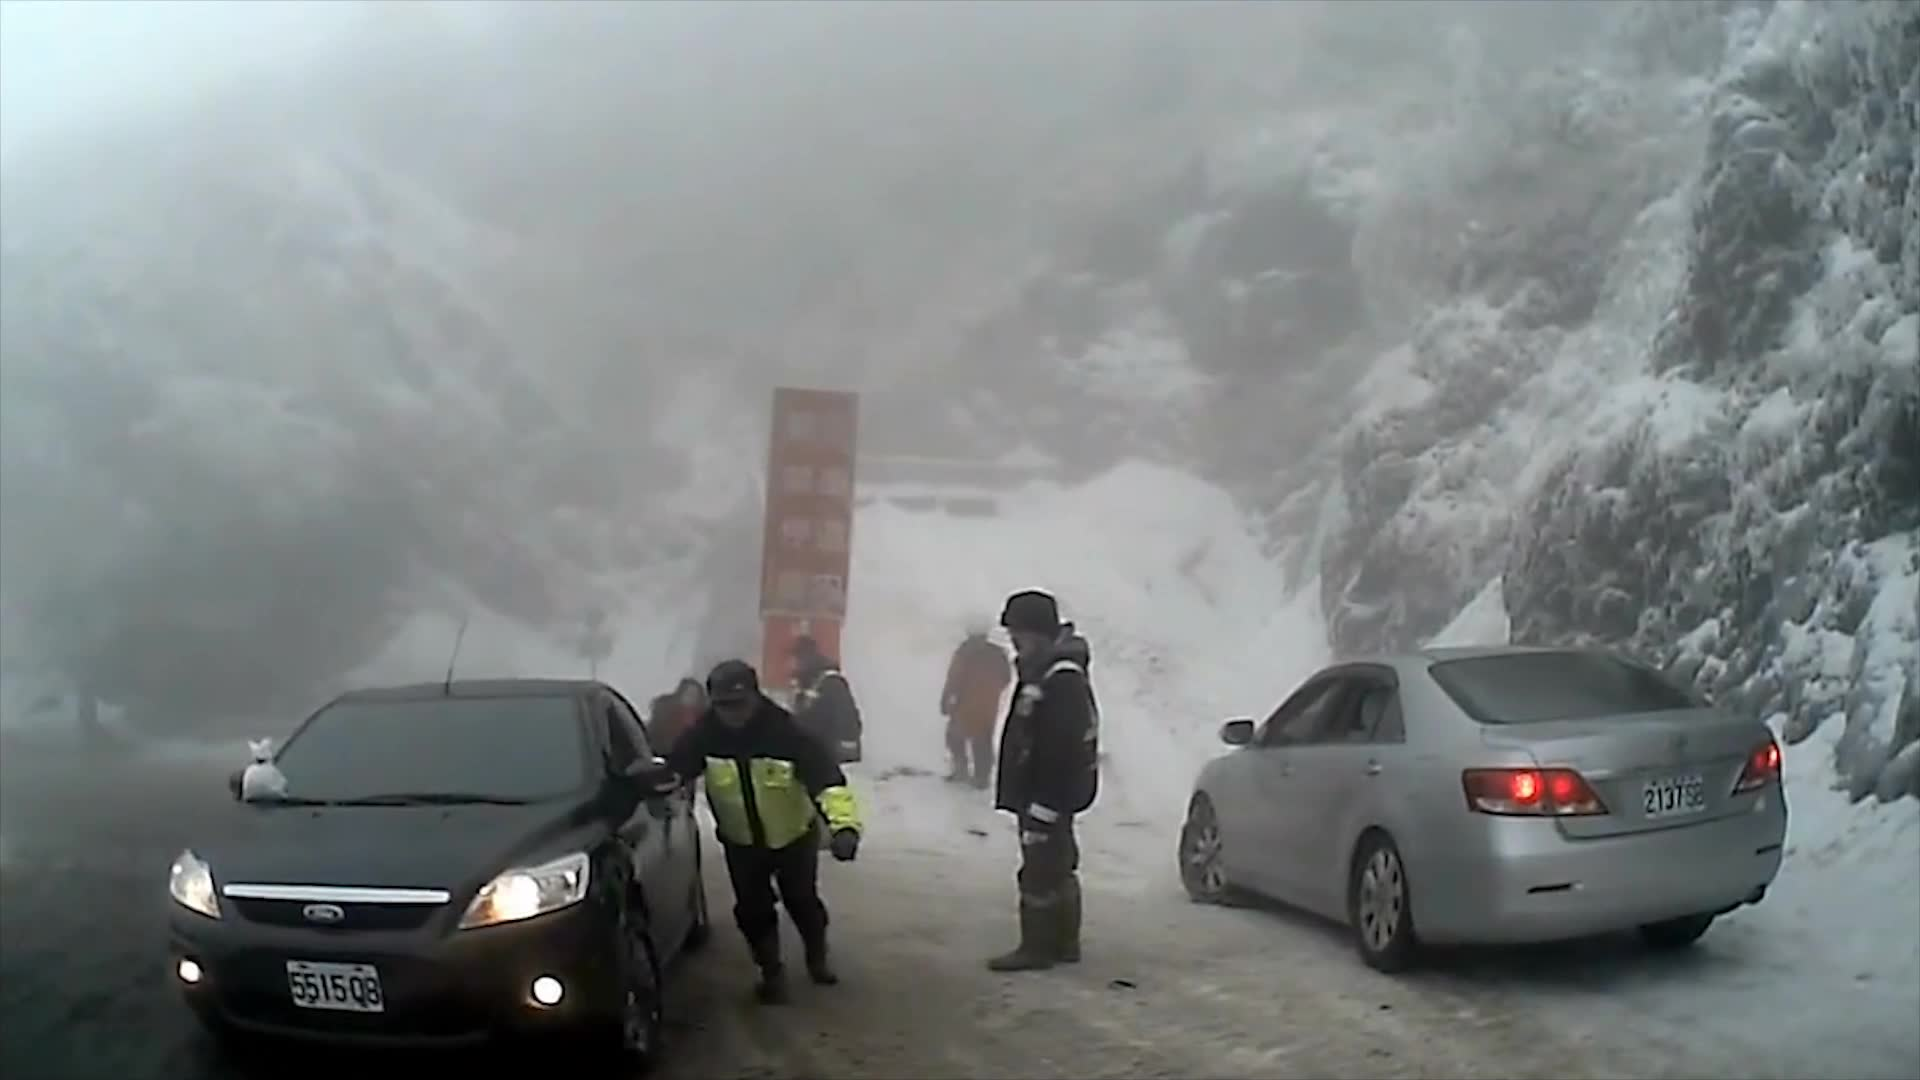pedestrian: (650, 657, 869, 999), (988, 590, 1104, 977), (781, 637, 863, 858), (633, 673, 717, 858), (937, 607, 1014, 789)
vehicle: (161, 676, 711, 1072), (1172, 643, 1789, 975)
